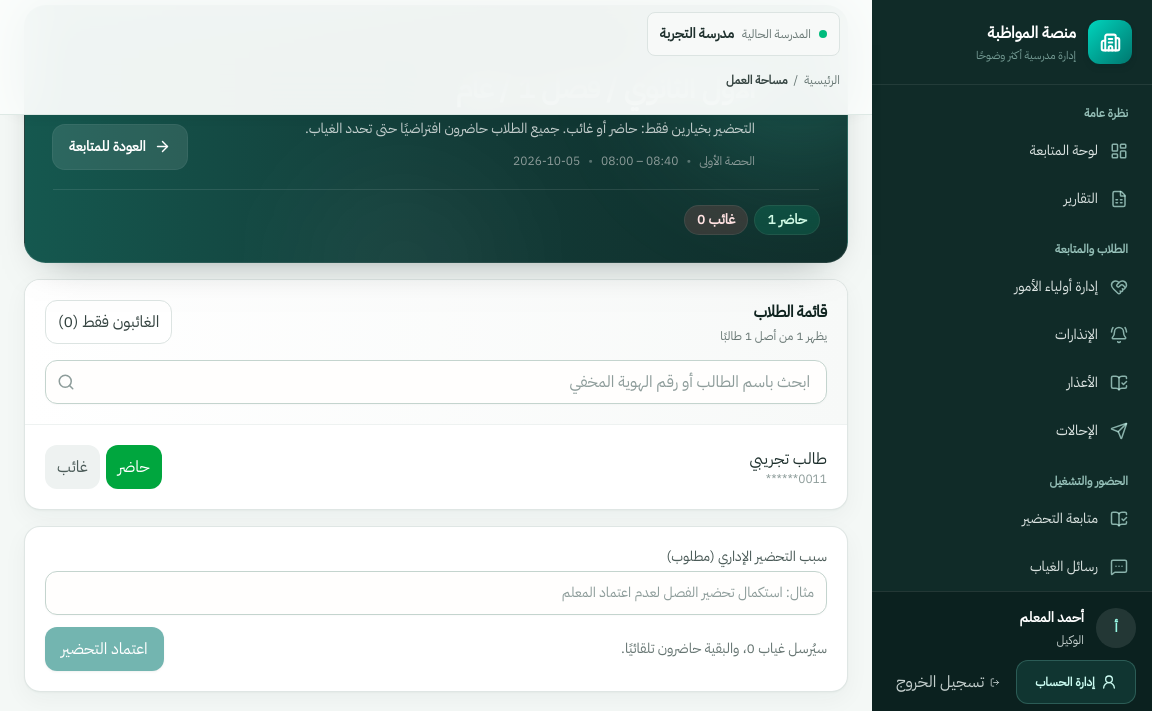
administrative preparation › resumes a teacher session and displays the winning submission when another actor approves first
The image size is (1152, 711).
(page scrolled)
Expected: the list with test id "roster-list" is shown, [45,444,827,488]
Type "تغطية إدارية" into the field with test id "administrative-reason" at [436, 592], box [45,570,827,614]
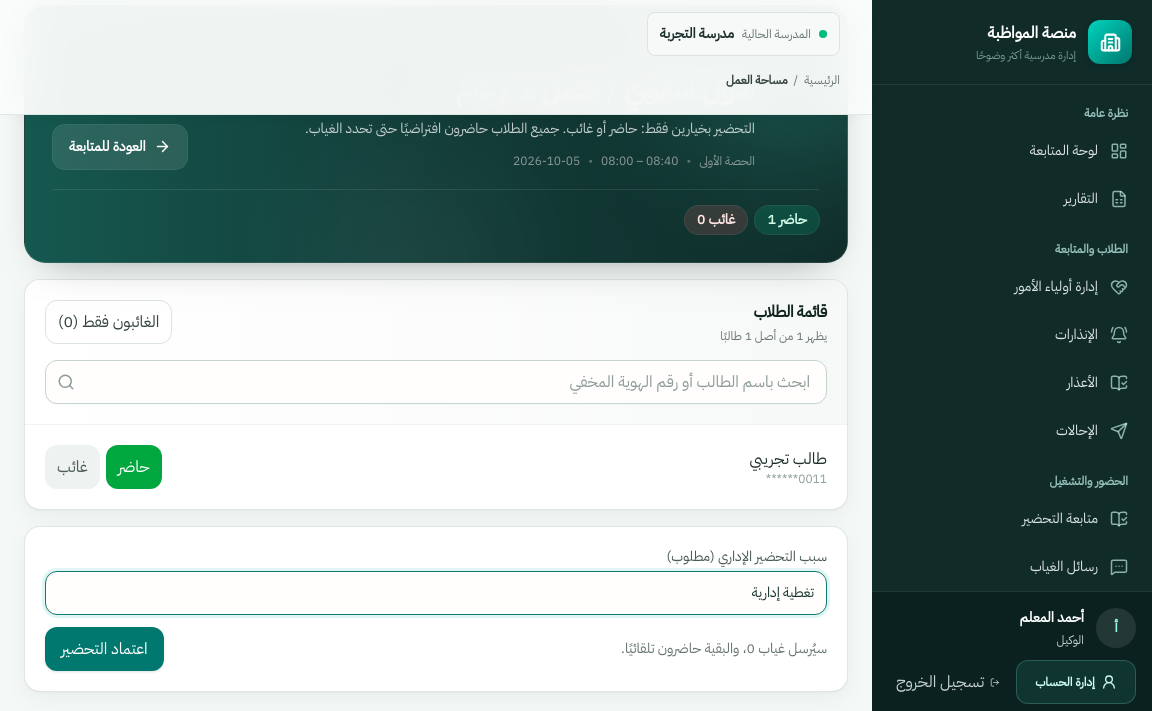
Click the button with test id "submit-attendance" at [104, 648], box [45,626,164,670]
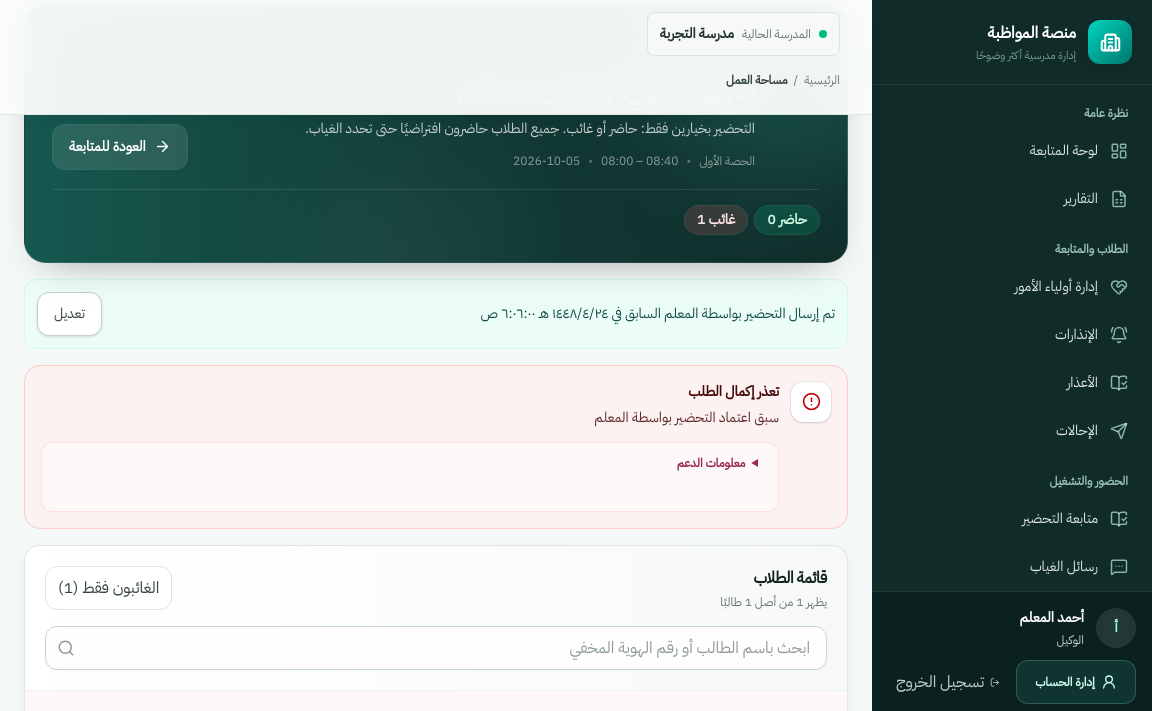
Expected: the element with test id "submitted-banner" shows "المعلم السابق", [625,302,698,324]
Expected: the button with test id "submit-attendance" is gone
Expected: the text "سبق اعتماد التحضير بواسطة المعلم" is shown, [594,406,779,428]
